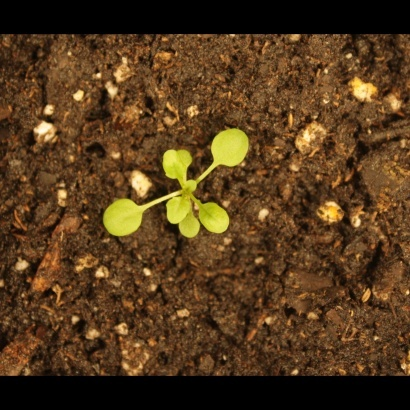leaf: (94, 195, 149, 243), (210, 122, 252, 171), (196, 201, 234, 234), (165, 194, 193, 229), (159, 150, 186, 182), (177, 211, 202, 241), (172, 146, 195, 169)
